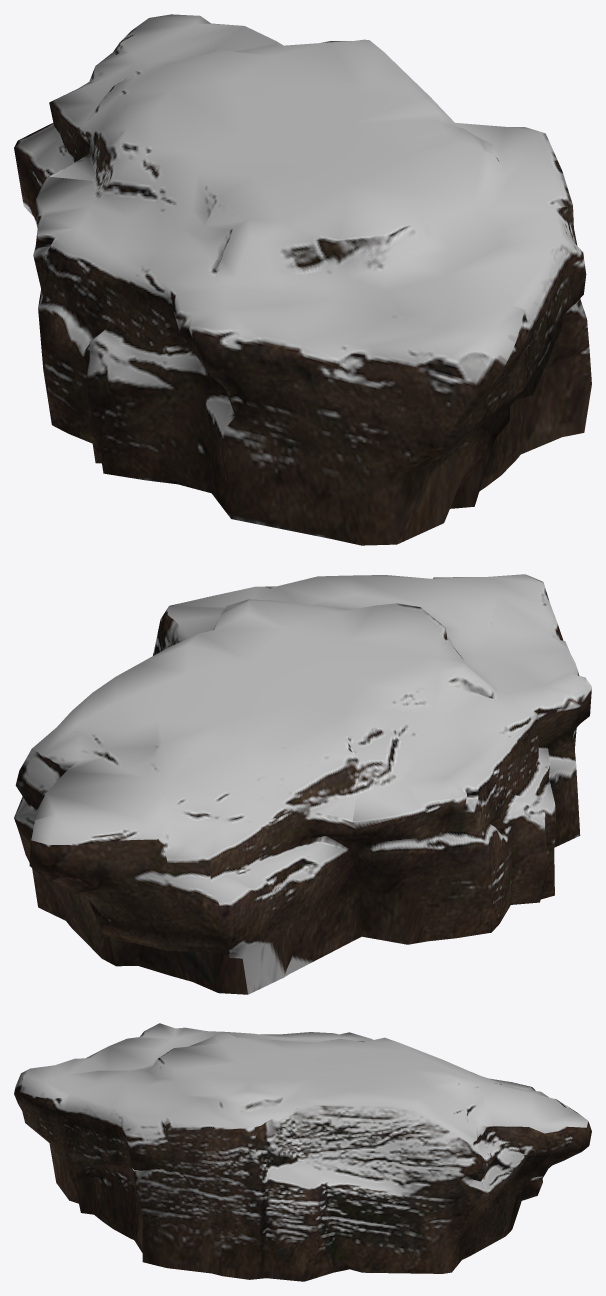
The picture shows the model from 3 angles, top to bottom: view 1: azimuth 30°, elevation 25°; view 2: azimuth 150°, elevation 25°; view 3: azimuth 270°, elevation 25°; orthographic projection. The views are drawn at different scales.
Parts seen in each view (by area): view 1: 1_wj_01_04; view 2: 1_wj_01_04; view 3: 1_wj_01_04.
Part boxes in pixels (bbox=[...]): 1_wj_01_04: bbox=[14, 14, 591, 545]; 1_wj_01_04: bbox=[14, 574, 591, 994]; 1_wj_01_04: bbox=[14, 1023, 591, 1281].
Size of the model in its own units: 2.24 by 1.11 by 3.73.
1 material, 1 textured.
